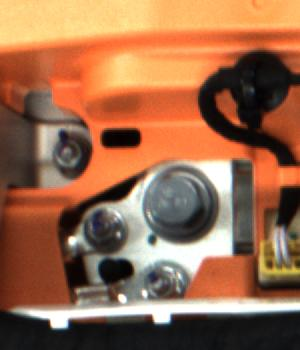nut_b: (138, 168, 221, 242)
screw_s: (88, 205, 127, 247), (146, 259, 185, 301), (55, 130, 82, 173)
